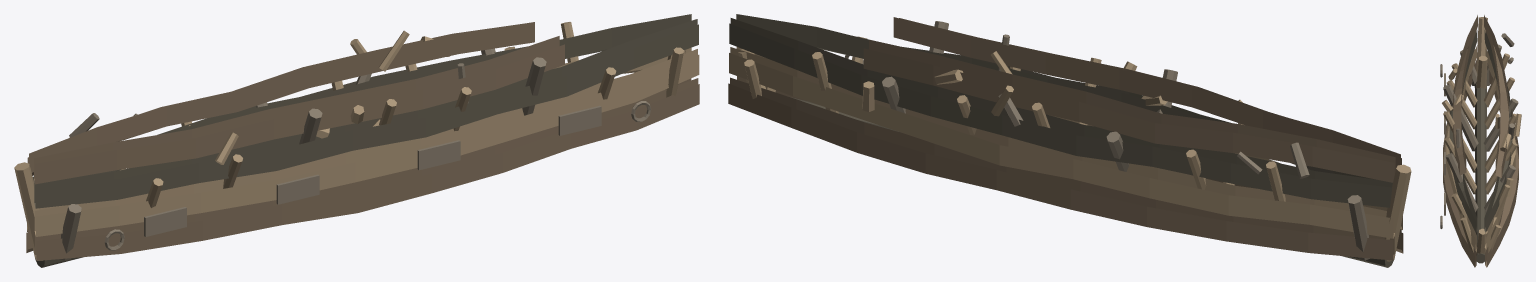
File: shipwreck_hull_b.glb
The picture shows the model from 3 angles, left to right: view 1: azimuth 30°, elevation 25°; view 2: azimuth 150°, elevation 25°; view 3: azimuth 270°, elevation 25°; orthographic projection. The views are drawn at different scales.
Parts seen in each view (by area): view 1: shipwreck_hull_b LOD0; view 2: shipwreck_hull_b LOD0; view 3: shipwreck_hull_b LOD0.
Boxes of the visible parts, <box> form: shipwreck_hull_b LOD0: <box>14,14,699,267</box>; shipwreck_hull_b LOD0: <box>728,14,1411,267</box>; shipwreck_hull_b LOD0: <box>1440,15,1521,267</box>.
Size of what is drawn, in the model's own units: 8.17 by 1.53 by 1.45.
